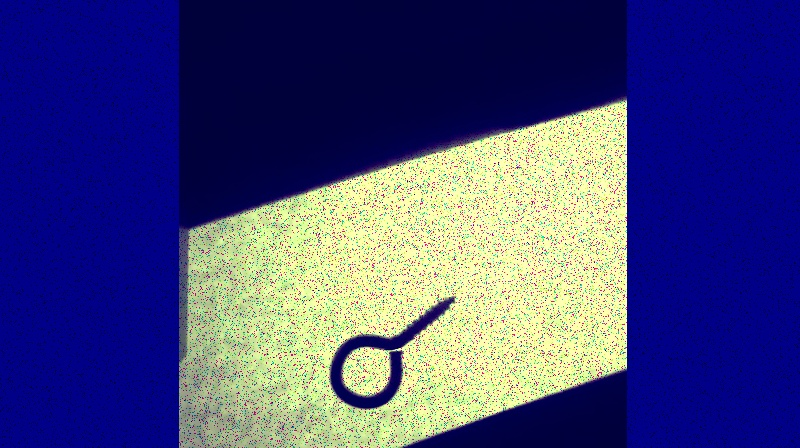O001: (325, 292, 459, 413)
